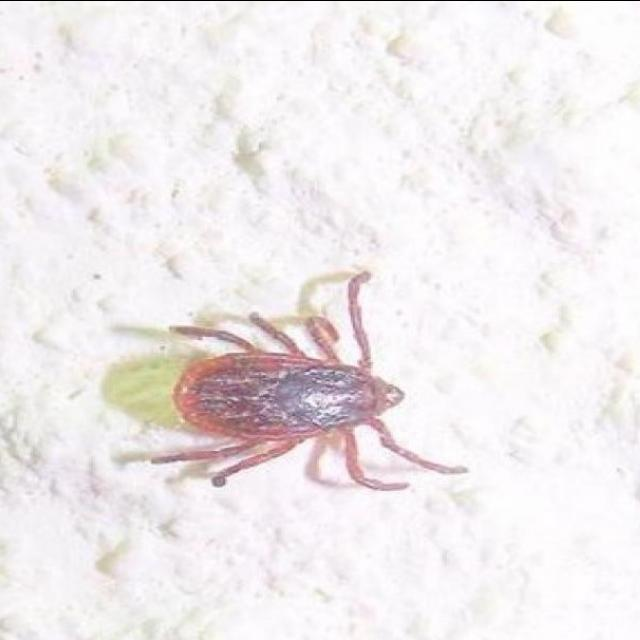Rhipicephalus Sanguineus-F: (151, 271, 469, 490)
